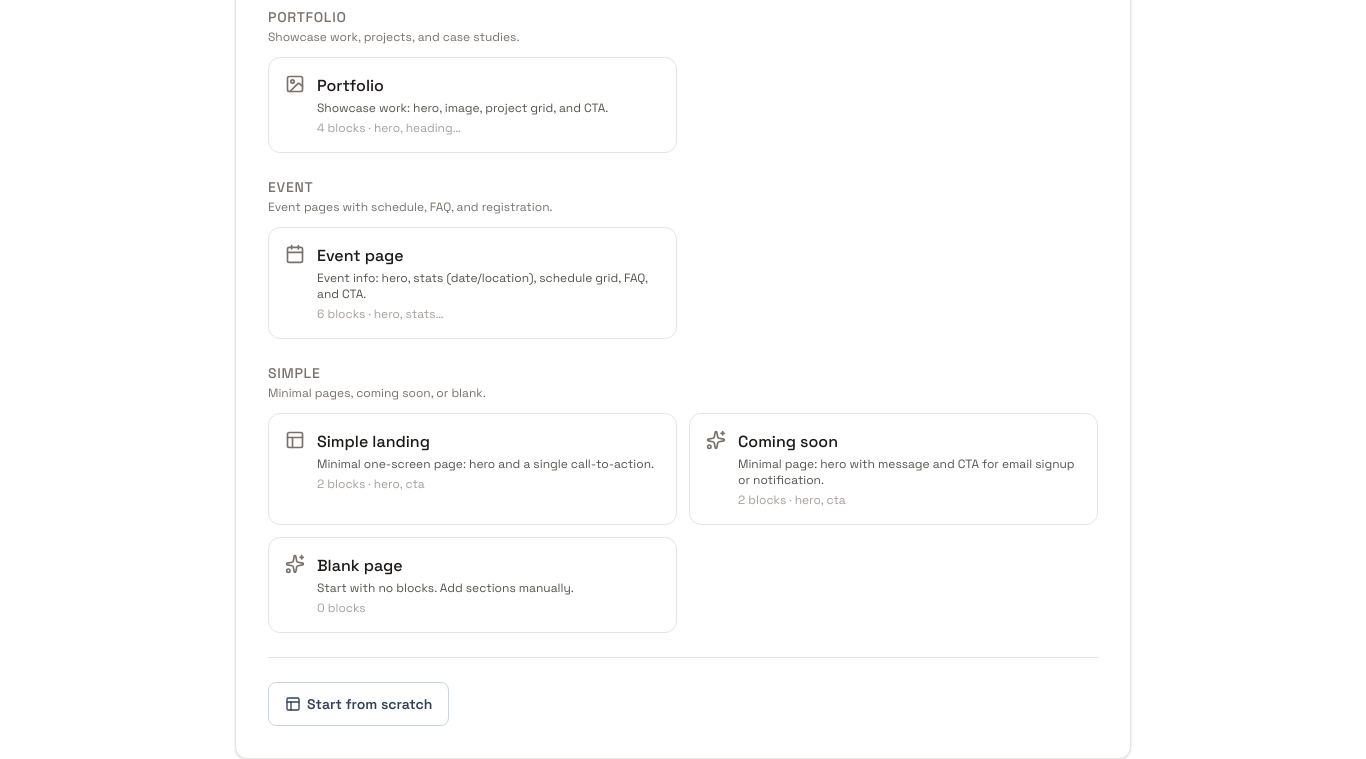
Test: CreatePagePage › renders modern editor shell with sticky actions and page details sidebar after choosing template
(page scrolled)
Click the button "Start from scratch" at (359, 704), box [268,682,449,726]
(page scrolled)
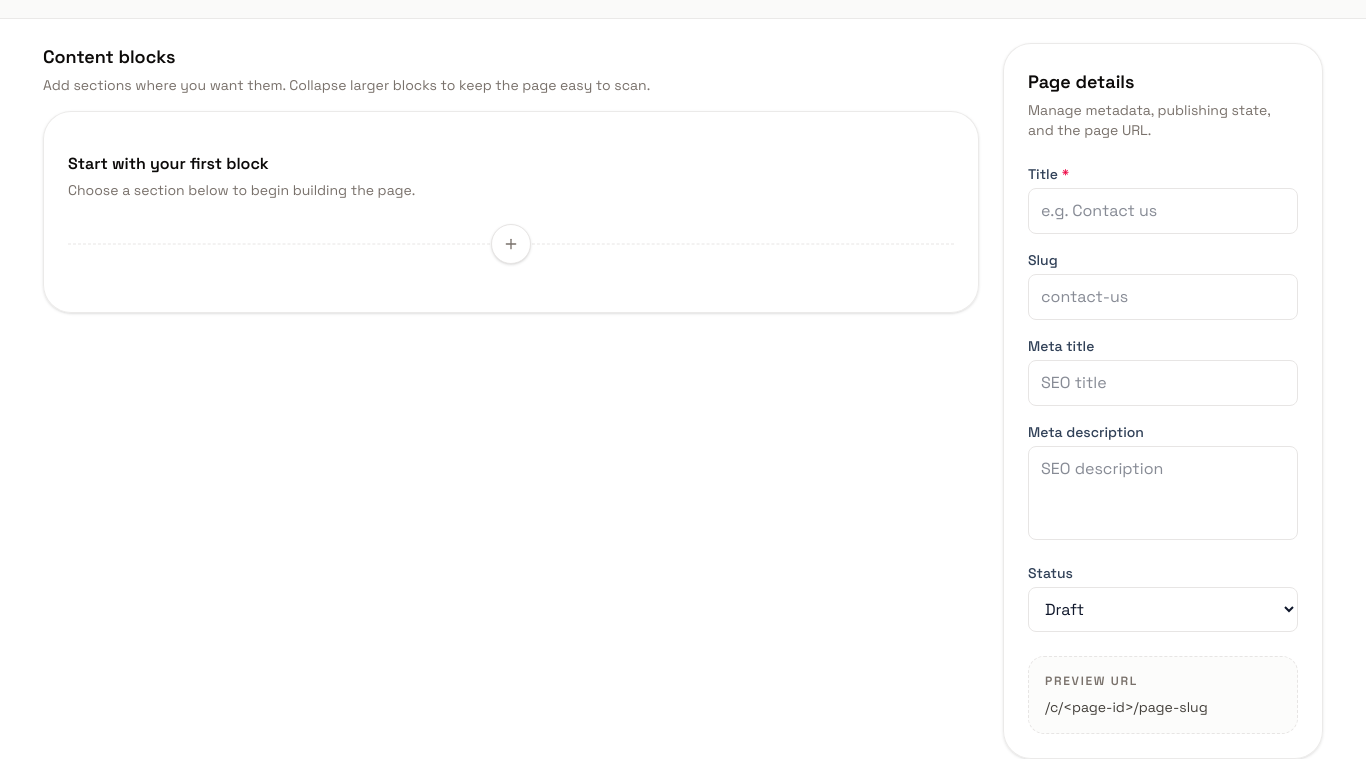
Expected: the heading "Content blocks" is shown, [43,45,176,68]
Expected: the heading "Page details" is shown, [1028,70,1134,93]
